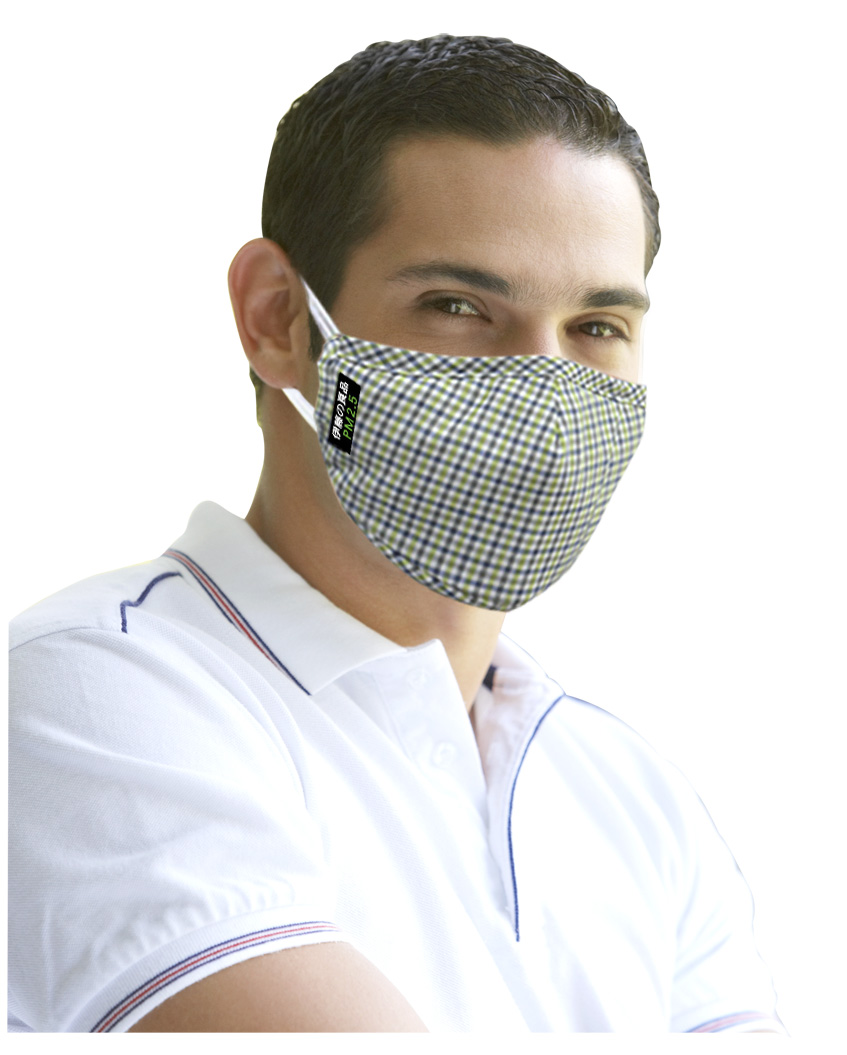face_mask: (332, 132, 651, 615)
